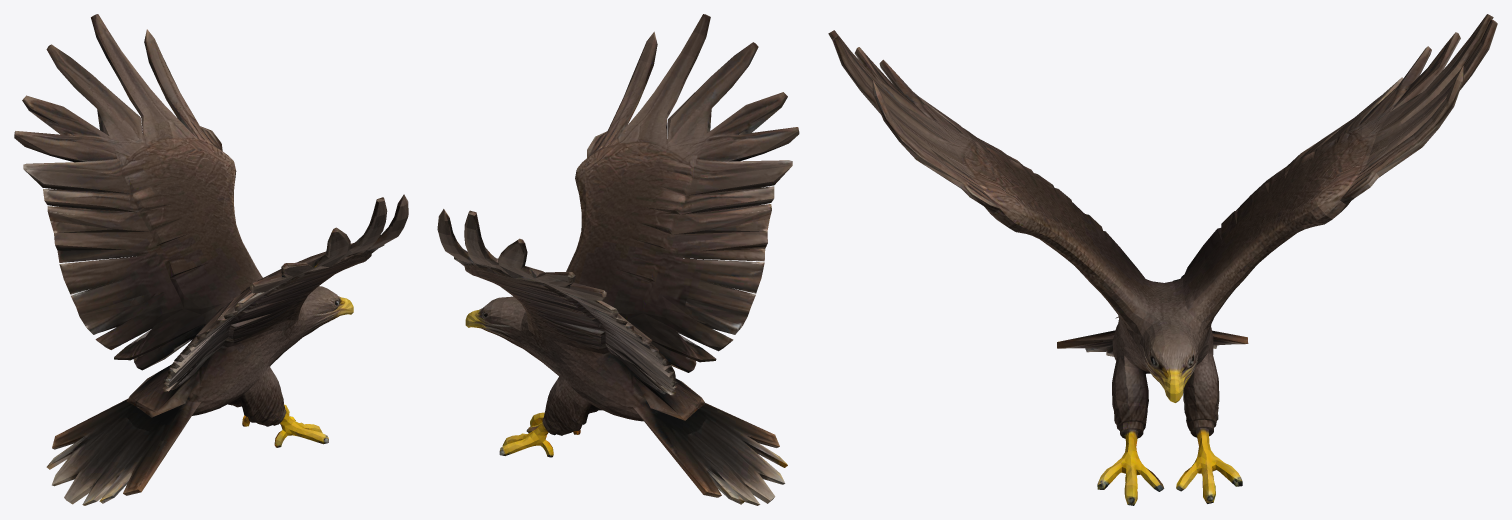
File: eagle_texture.obj
The picture shows the model from 3 angles, left to right: view 1: azimuth 30°, elevation 25°; view 2: azimuth 150°, elevation 25°; view 3: azimuth 270°, elevation 25°; orthographic projection. The views are drawn at different scales.
Parts seen in each view (by area): view 1: eagle_texture; view 2: eagle_texture; view 3: eagle_texture.
Part boxes in pixels (x1,y1,x2,y2): eagle_texture: (14,14,408,505); eagle_texture: (437,14,799,505); eagle_texture: (828,14,1497,505).
Size of the model in its own units: 0.6141 by 0.6904 by 0.9472.
Materials: 1 (1 with a texture image).
